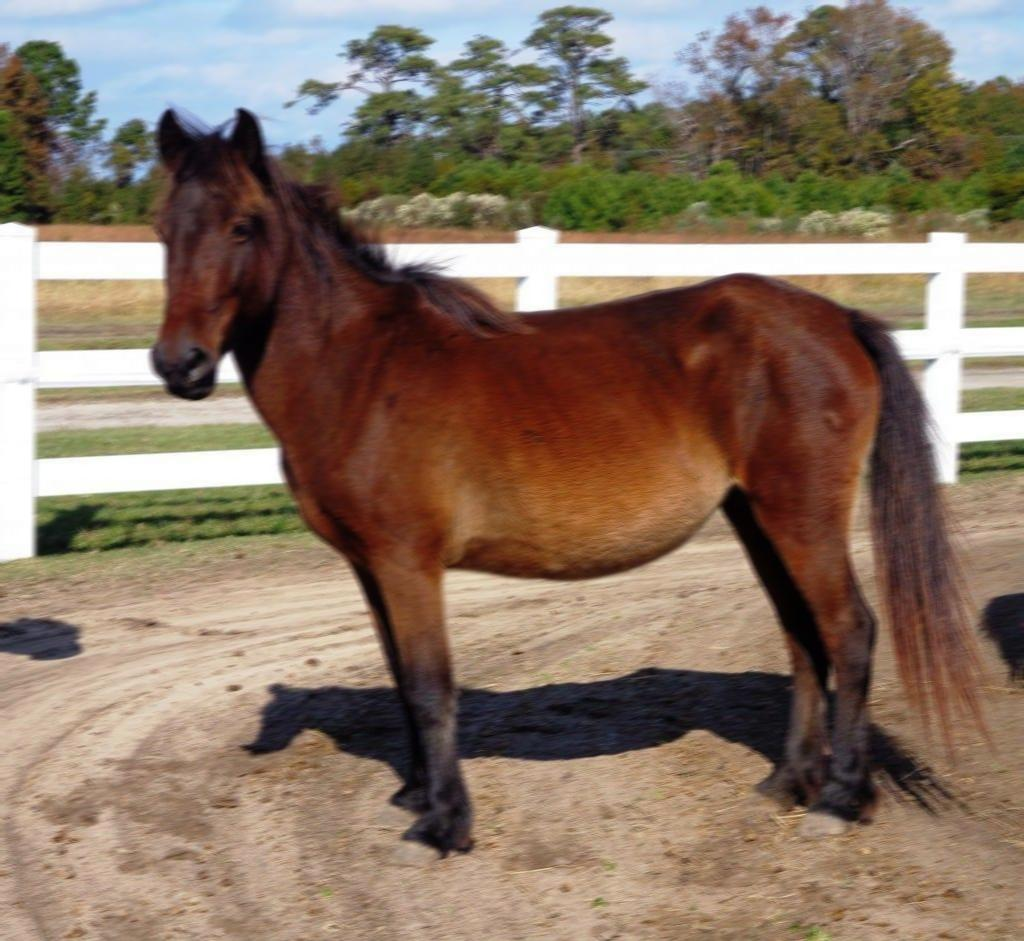horse: (134, 97, 1009, 870)
